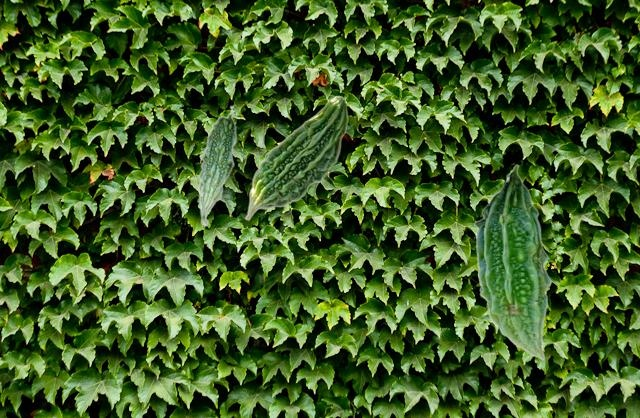ampalaya: (473, 162, 552, 361), (244, 93, 350, 222), (196, 105, 238, 229)
